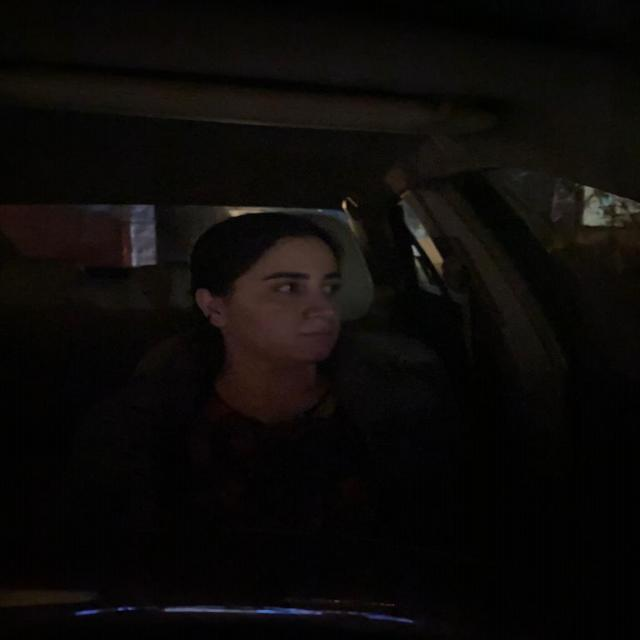LeftRight: (179, 205, 367, 370)
